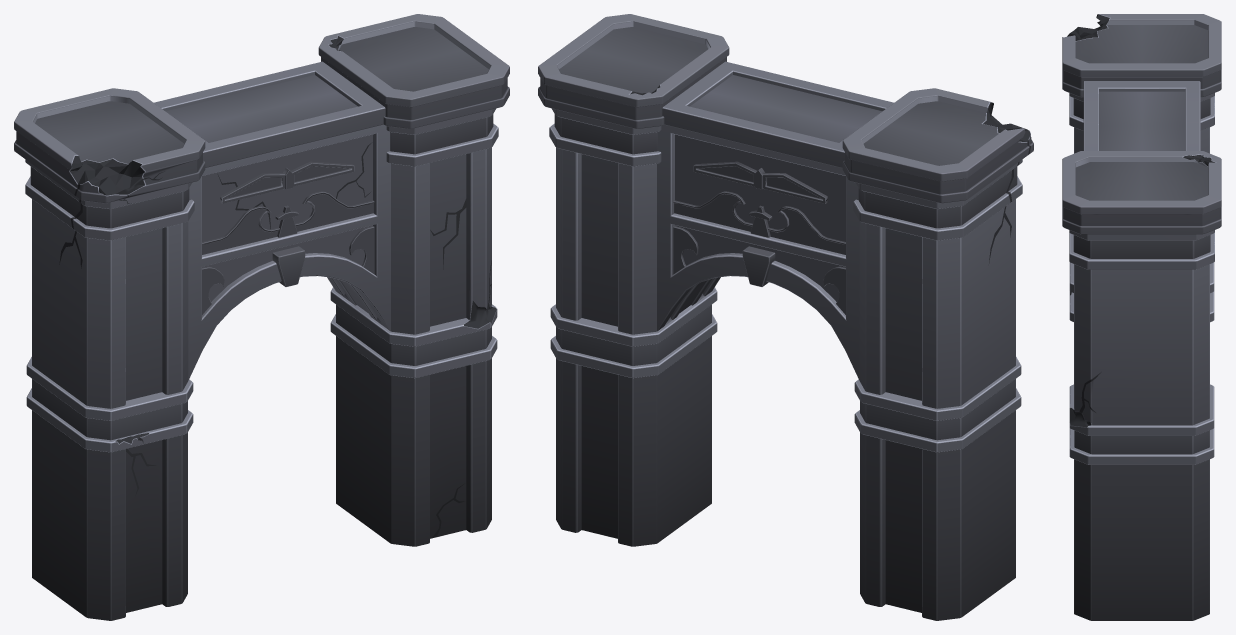
Rendered from Arch.fbx.
3 views of the same model, side by side, from view 1: azimuth 30°, elevation 25°; view 2: azimuth 150°, elevation 25°; view 3: azimuth 270°, elevation 25° (orthographic). The views are drawn at different scales.
Parts seen in each view (by area): view 1: Arch; view 2: Arch; view 3: Arch.
Boxes of the visible parts, box(x1,y1,x2,y2) form: Arch: box(14, 14, 509, 620); Arch: box(538, 14, 1033, 620); Arch: box(1062, 14, 1221, 620).
Bounding box in the file's own units: 424 × 429 × 148.
